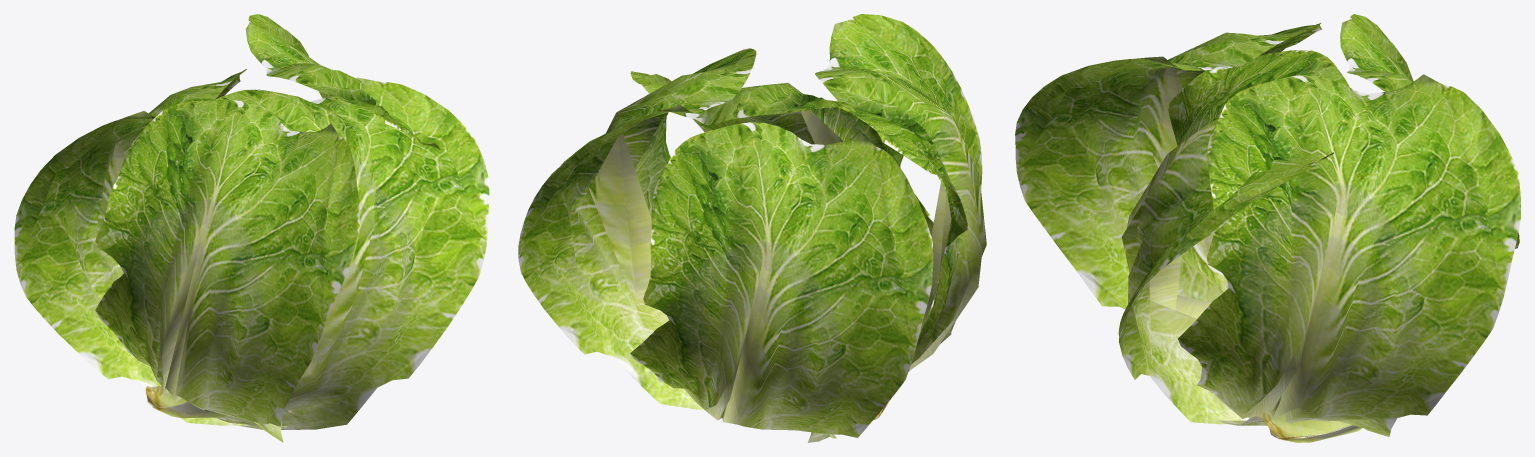
File: lettuce.FBX
3 renders of one model, left to right at view 1: azimuth 30°, elevation 25°; view 2: azimuth 150°, elevation 25°; view 3: azimuth 270°, elevation 25°, orthographic. The views are drawn at different scales.
Visible parts, largest first — view 1: Group001; view 2: Group001; view 3: Group001.
Part boxes in pixels (x1,y1,x2,y2): Group001: (14,14,489,442); Group001: (518,14,986,442); Group001: (1015,14,1520,442).
Bounding box in the file's own units: 31.64 × 33.64 × 27.88.
Materials: 2 (1 with a texture image).
